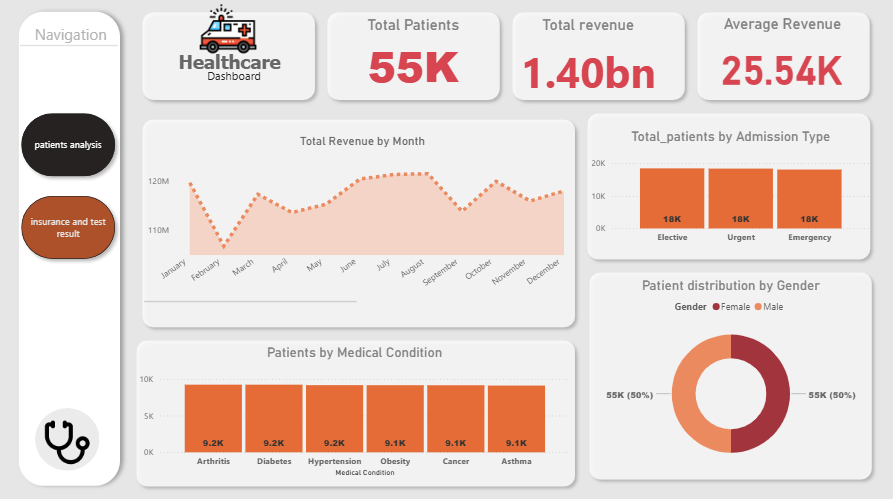

This screenshot's page, from the dashboard's own definition file:
{"tool":"powerbi","page":{"name":"patients analysis","canvas":[1280,720],"ordinal":0},"visuals":[{"type":"shape","box":[16.5,9.6,166.5,699.2],"z":0},{"type":"shape","box":[195.2,13,264.6,143.1],"z":1000},{"type":"shape","box":[459.7,12.4,264.3,143.1],"z":2000},{"type":"shape","box":[724,12.4,264.3,143.1],"z":3000},{"type":"shape","box":[988.2,12.4,264.3,143.1],"z":4000},{"type":"shape","box":[186.5,481.4,644.8,227],"z":5000},{"type":"shape","box":[195.2,166.3,636.1,315.2],"z":6000},{"type":"shape","box":[831.3,157.6,422.2,227],"z":7000},{"type":"shape","box":[834.8,384.2,421.6,314.1],"z":8000},{"type":"textbox","box":[209.7,71.2,238.7,51.4],"z":9000},{"type":"textbox","box":[36.9,33,130.5,51.4],"z":10000},{"type":"textbox","box":[209.7,97.6,251.9,55.4],"z":11000},{"type":"card","title":"Total Patients","fields":{"Values":["All Measures.Total Emp"]},"box":[468,27.5,246.4,112.9],"z":12000},{"type":"donutChart","title":"Patient distribution by Gender","fields":{"Y":["All Measures.Total Emp"],"Category":["HR Analytics Data.Gender"]},"box":[840.8,399.9,408.3,282.7],"z":16000},{"type":"card","title":"Total revenue","fields":{"Values":["All Measures.Total_Revenue"]},"box":[702.7,27.5,277.6,130.1],"z":17000},{"type":"shape","box":[206.7,430.8,303.6,7.2],"z":19000},{"type":"shape","box":[51.4,586.8,92.3,89.7],"z":23000},{"type":"shape","box":[30.2,61.6,140.1,15.7],"z":24000},{"type":"columnChart","fields":{"Y":["All Measures.Total Emp"],"Category":["healthcare_dataset.Admission Type"]},"box":[841.4,186.5,407.7,173.5],"z":25000},{"type":"image","box":[33.3,597.1,128.7,78.1],"z":26000},{"type":"image","box":[276.1,0,102.7,91.1],"z":27000},{"type":"cardVisual","title":"Average Revenue","fields":{"Data":["All Measures.Average_Revenue"]},"box":[1014.9,26,209.6,125.8],"z":28000},{"type":"lineChart","title":"Total Revenue by Month","fields":{"Category":["healthcare_dataset.Date of Admission.Variation.Date Hierarchy.Month","healthcare_dataset.Date of Admission.Variation.Date Hierarchy.Day"],"Y":["All Measures.Total_Revenue"]},"box":[206.7,195.2,624.6,240],"z":29000},{"type":"columnChart","title":"Patients by Medical Condition","fields":{"Category":["healthcare_dataset.Medical Condition"],"Y":["CountNonNull(healthcare_dataset.Name)"]},"box":[195.2,495.9,624.6,193.7],"z":29001},{"type":"pageNavigator","box":[22.9,157.1,152.9,227.1],"z":29002}]}

Visuals, with their boxes in screenshot pixels (x1, y1, x2, y2), scaled from the page's 1280x720 canvas onto the 893x499 screenshot:
shape: bbox=(12, 7, 128, 491)
shape: bbox=(136, 9, 321, 108)
shape: bbox=(321, 9, 505, 108)
shape: bbox=(505, 9, 689, 108)
shape: bbox=(689, 9, 874, 108)
shape: bbox=(130, 334, 580, 491)
shape: bbox=(136, 115, 580, 334)
shape: bbox=(580, 109, 875, 267)
shape: bbox=(582, 266, 877, 484)
textbox: bbox=(146, 49, 313, 85)
textbox: bbox=(26, 23, 117, 58)
textbox: bbox=(146, 68, 322, 106)
"Total Patients" card: bbox=(327, 19, 498, 97)
"Patient distribution by Gender" donutChart: bbox=(587, 277, 871, 473)
"Total revenue" card: bbox=(490, 19, 684, 109)
shape: bbox=(144, 299, 356, 304)
shape: bbox=(36, 407, 100, 469)
shape: bbox=(21, 43, 119, 54)
columnChart - All Measures.Total Emp x healthcare_dataset.Admission Type: bbox=(587, 129, 871, 250)
image: bbox=(23, 414, 113, 468)
image: bbox=(193, 0, 264, 63)
"Average Revenue" cardVisual: bbox=(708, 18, 854, 105)
"Total Revenue by Month" lineChart: bbox=(144, 135, 580, 302)
"Patients by Medical Condition" columnChart: bbox=(136, 344, 572, 478)
pageNavigator: bbox=(16, 109, 123, 266)
